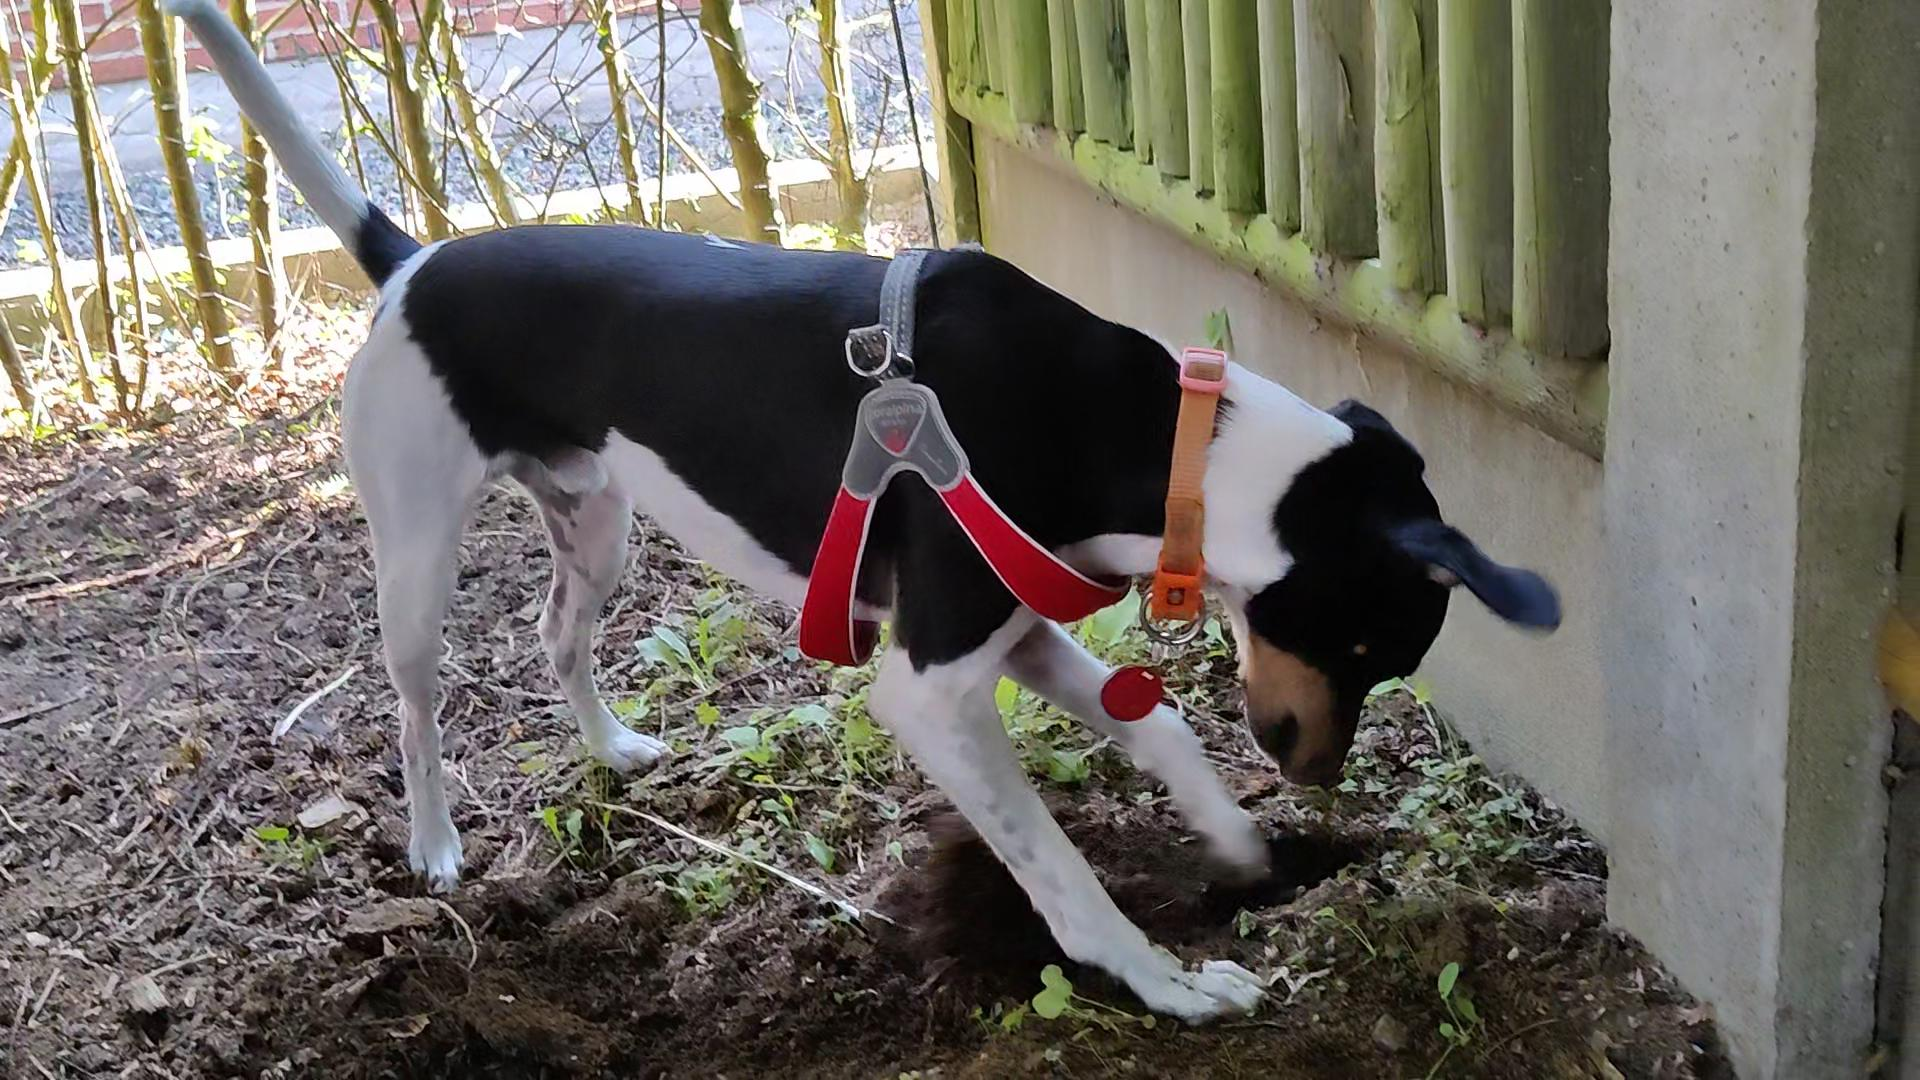Dog: (142, 0, 1567, 1029)
